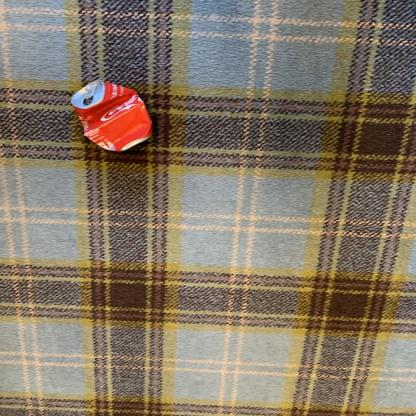trash: (70, 82, 156, 154)
